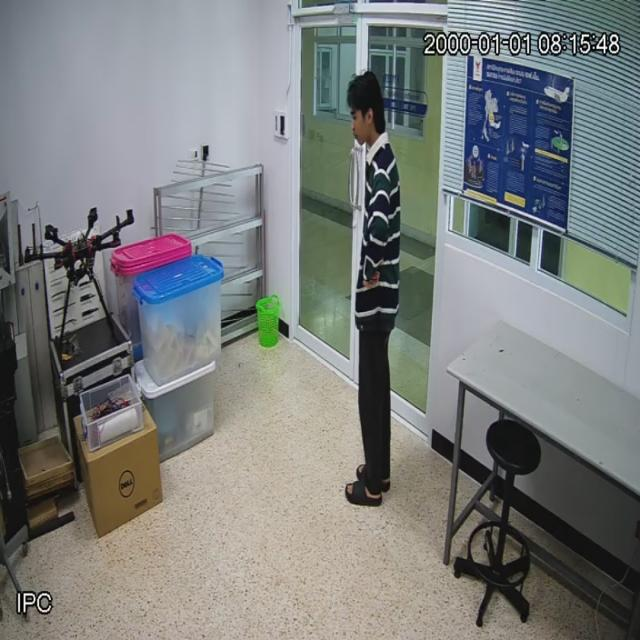normal: (328, 65, 407, 525)
